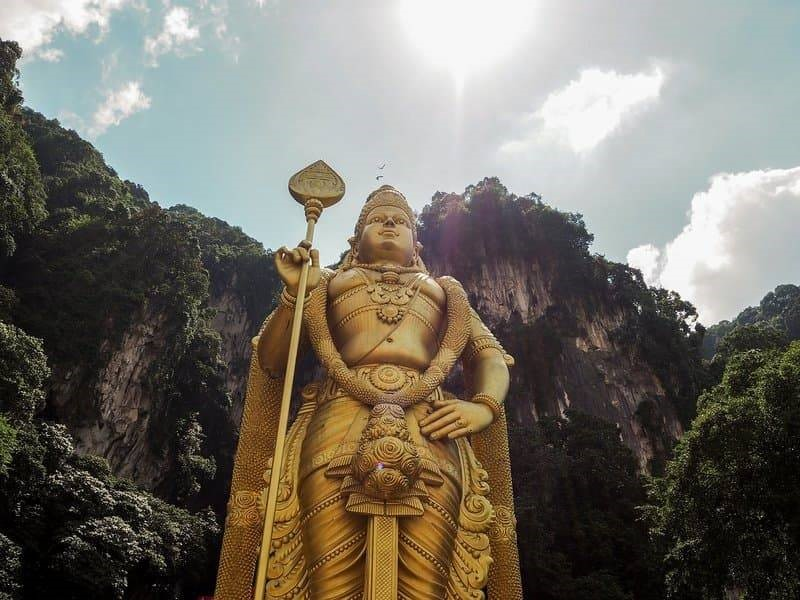Hindu Temple: (240, 156, 517, 592)
